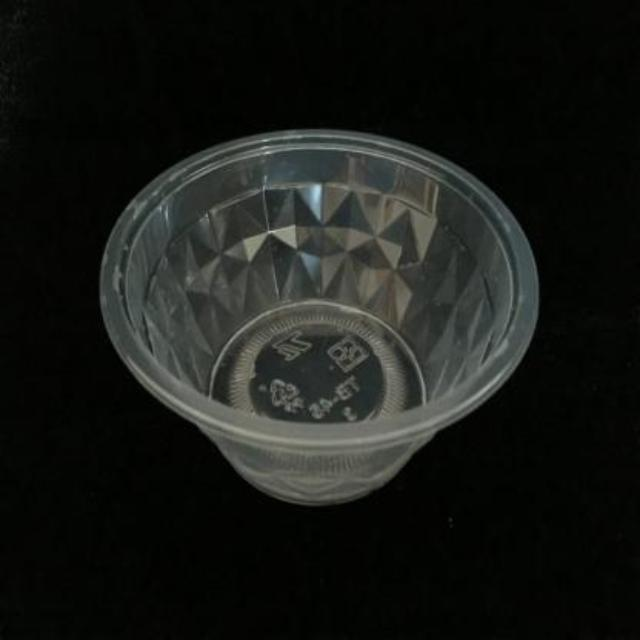plastic_box: (98, 130, 540, 502)
